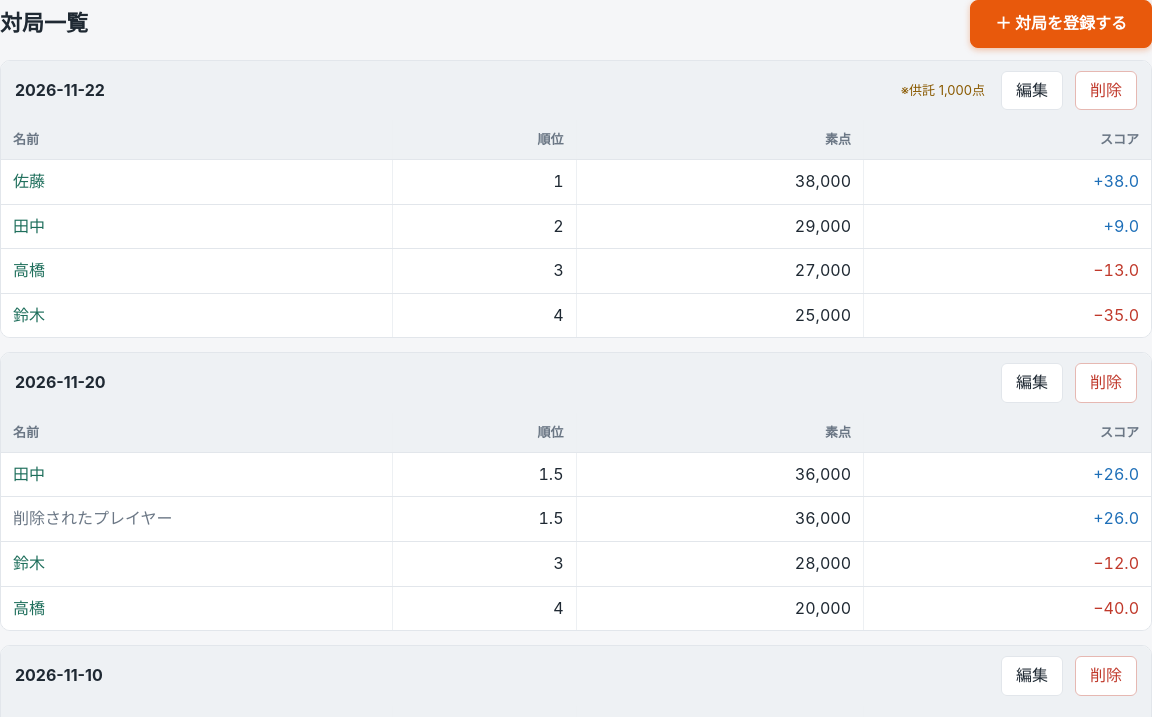
Test: 削除 › 「キャンセル」を押すと、何もせずに閉じる
Expected: the text "2026-11-22" is shown, left=15, top=78, right=105, bottom=103
Step 1. Click the button "削除" in the row of "※供託" → [1106, 90], box left=1075, top=71, right=1137, bottom=110
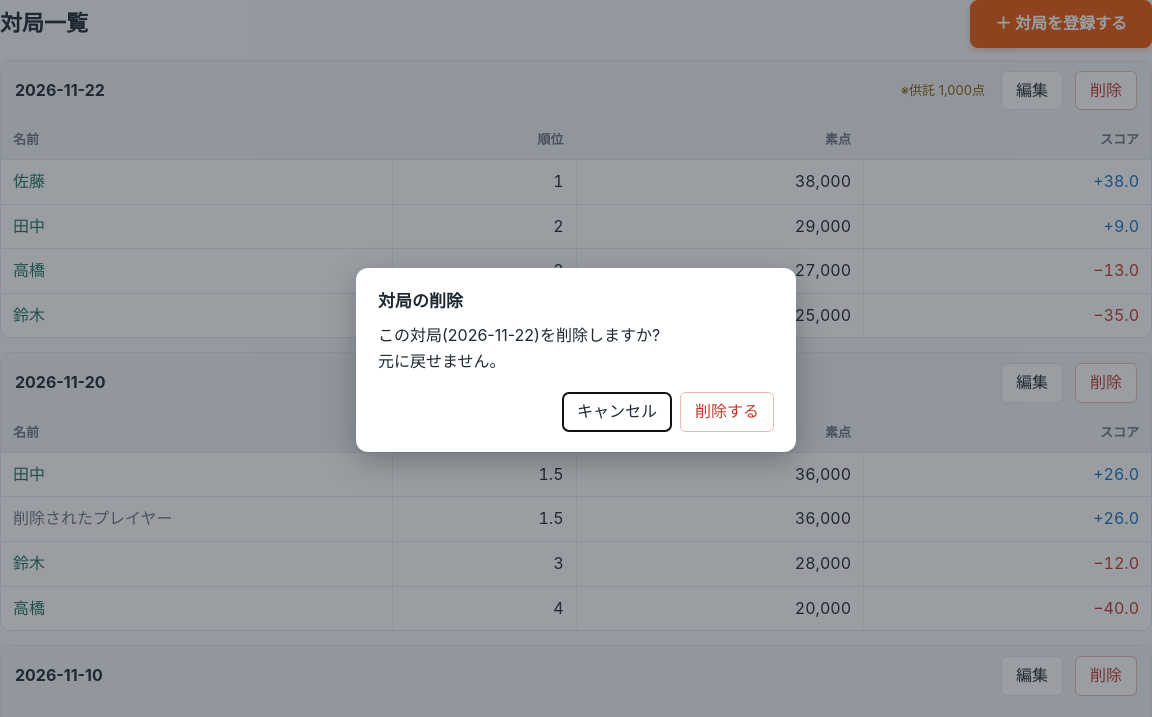
Step 2. Click the button "キャンセル" → [617, 412], box left=562, top=392, right=672, bottom=432
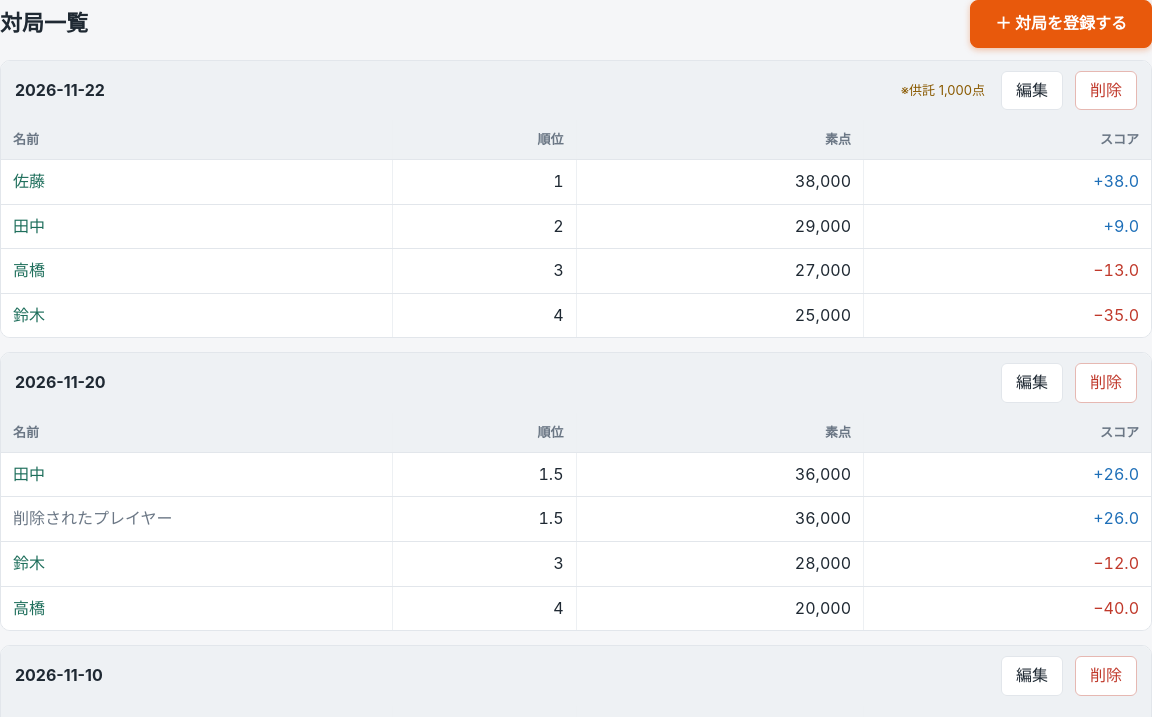
Expected: the dialog is gone
